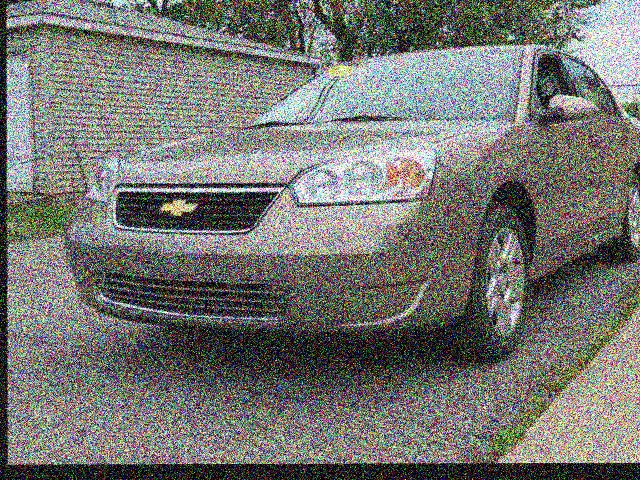car: (35, 29, 640, 363)
